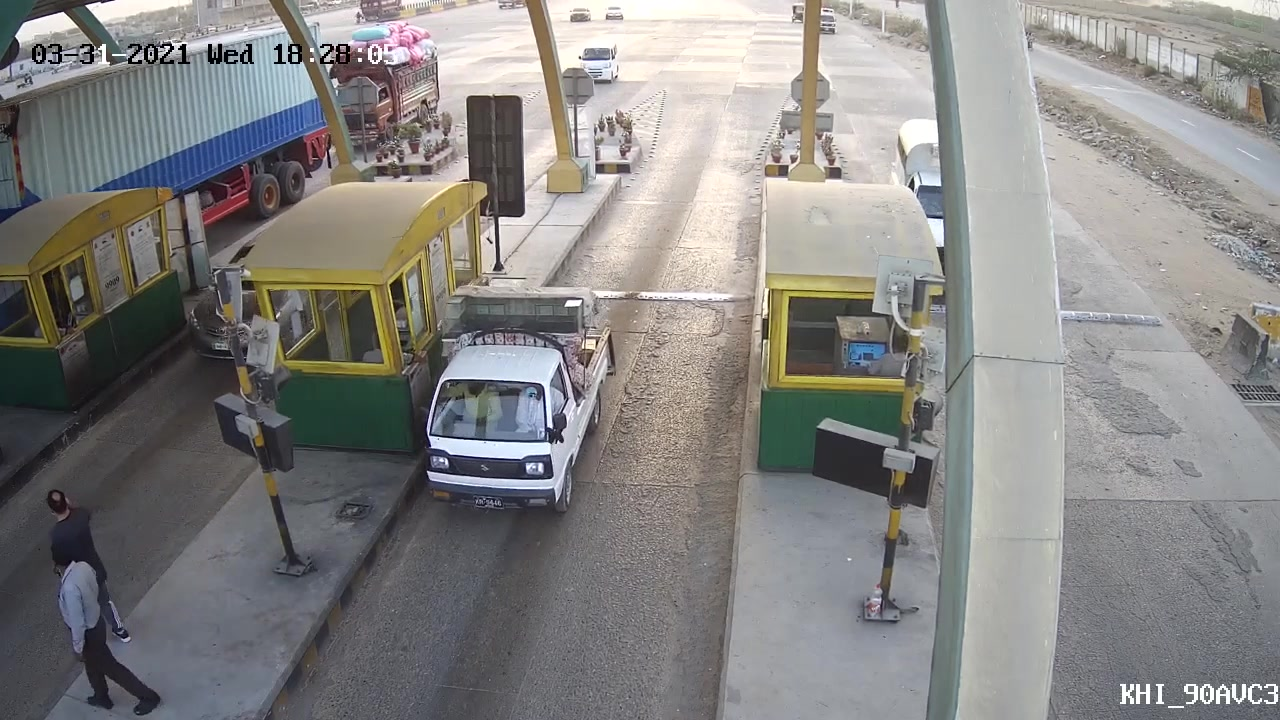F1: (407, 276, 620, 519)
